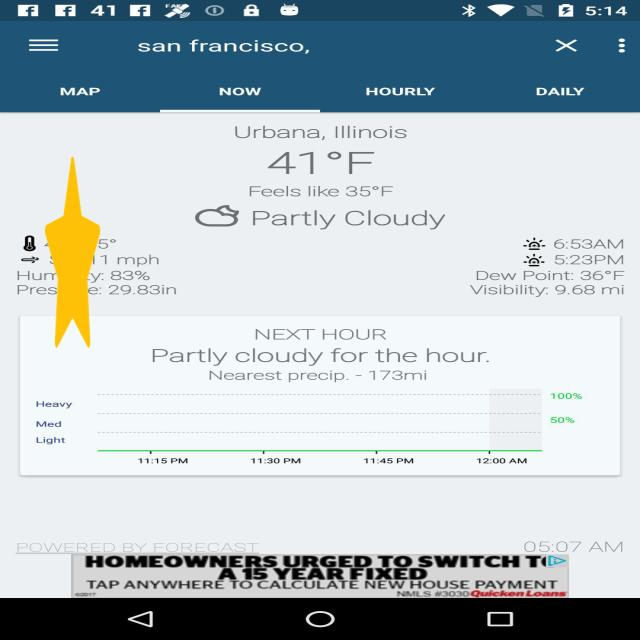forced continuity: (45, 156, 100, 348)
